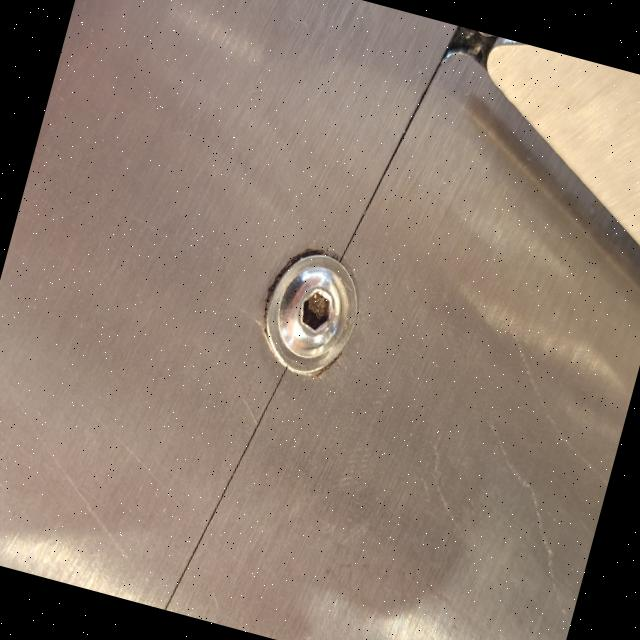Hex Socket Allen: (234, 224, 386, 396)
